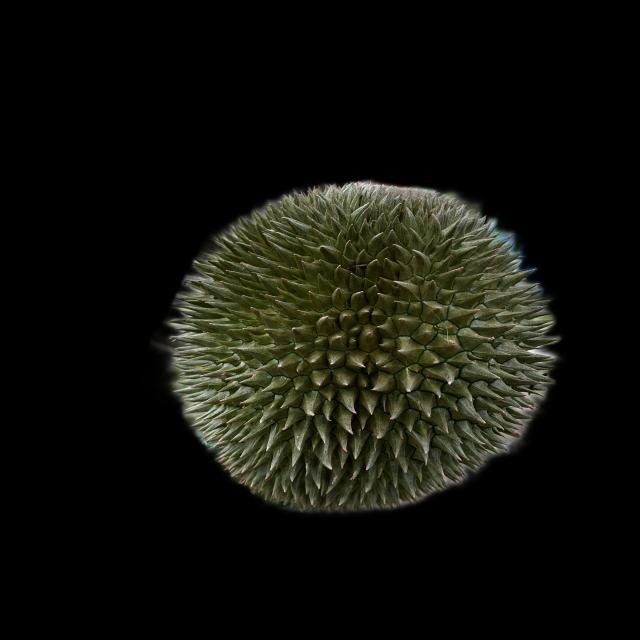immature: (162, 184, 559, 516)
